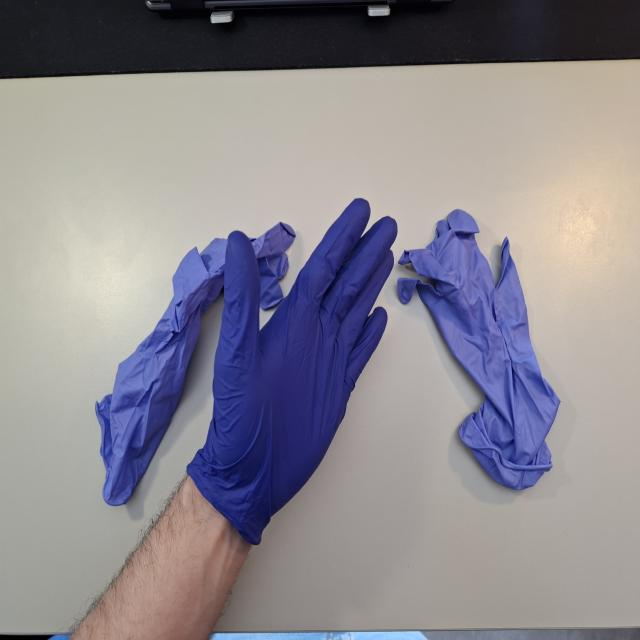glove_on: (182, 194, 401, 549)
